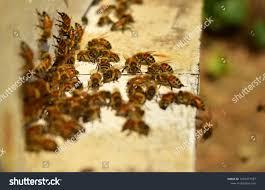Apis-mellifera-scutellata: (177, 86, 214, 119), (32, 7, 58, 42), (194, 110, 217, 142), (152, 68, 181, 92), (20, 40, 42, 69), (115, 116, 150, 133), (60, 86, 75, 125), (127, 50, 165, 65), (118, 57, 147, 76), (84, 36, 118, 52), (140, 63, 178, 77), (156, 90, 181, 111), (122, 83, 157, 97), (118, 106, 144, 120), (86, 70, 105, 89), (125, 77, 155, 89), (73, 20, 89, 41), (56, 30, 72, 51), (60, 59, 82, 74), (37, 53, 55, 71), (81, 102, 98, 120), (120, 94, 147, 104), (57, 10, 72, 27), (106, 67, 121, 81), (90, 39, 109, 50), (100, 56, 107, 70)
